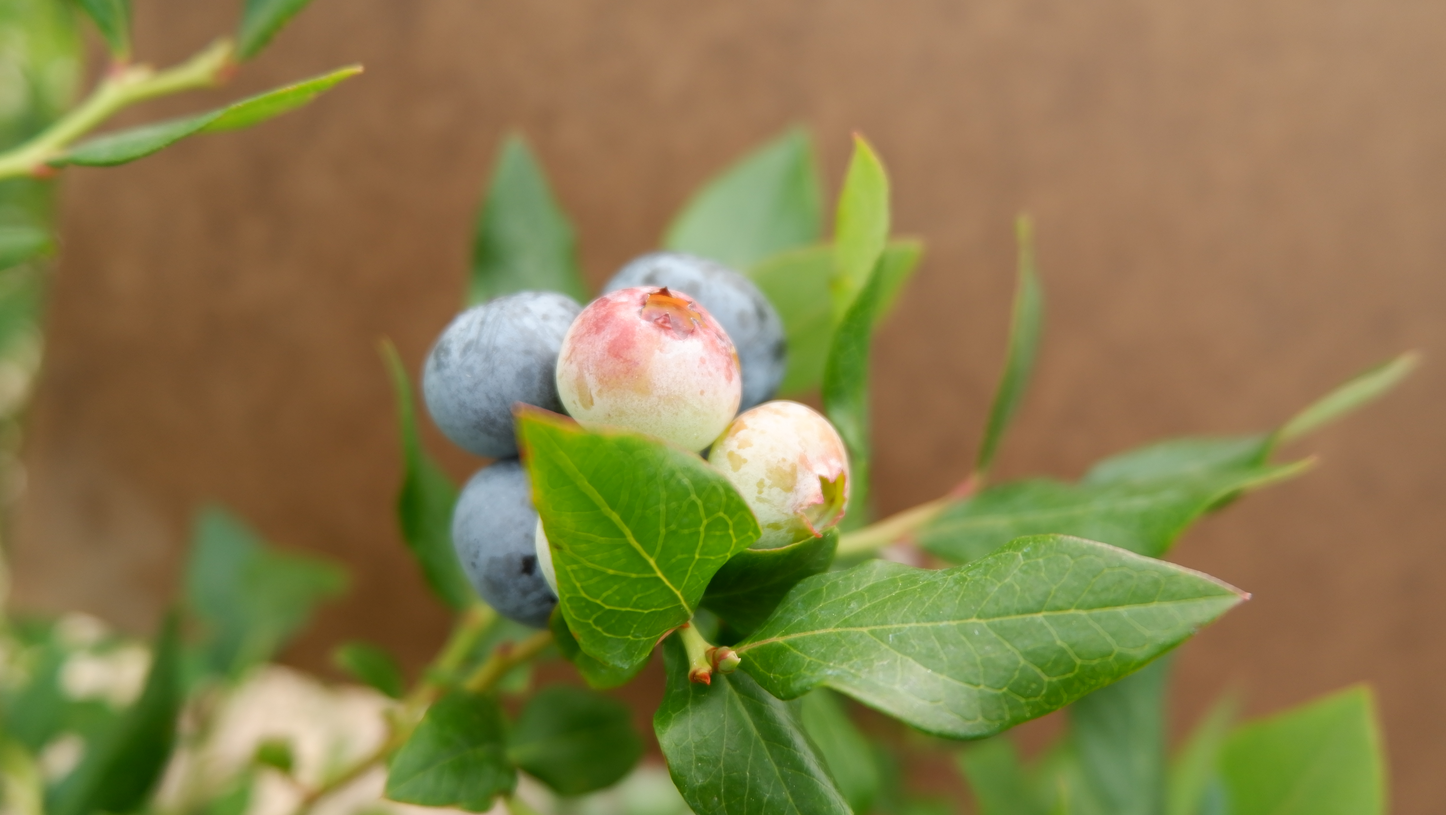Immature: (556, 286, 742, 455), (707, 400, 852, 550), (535, 517, 559, 602)
Mature: (601, 251, 788, 420), (423, 290, 583, 460), (452, 458, 559, 630)
